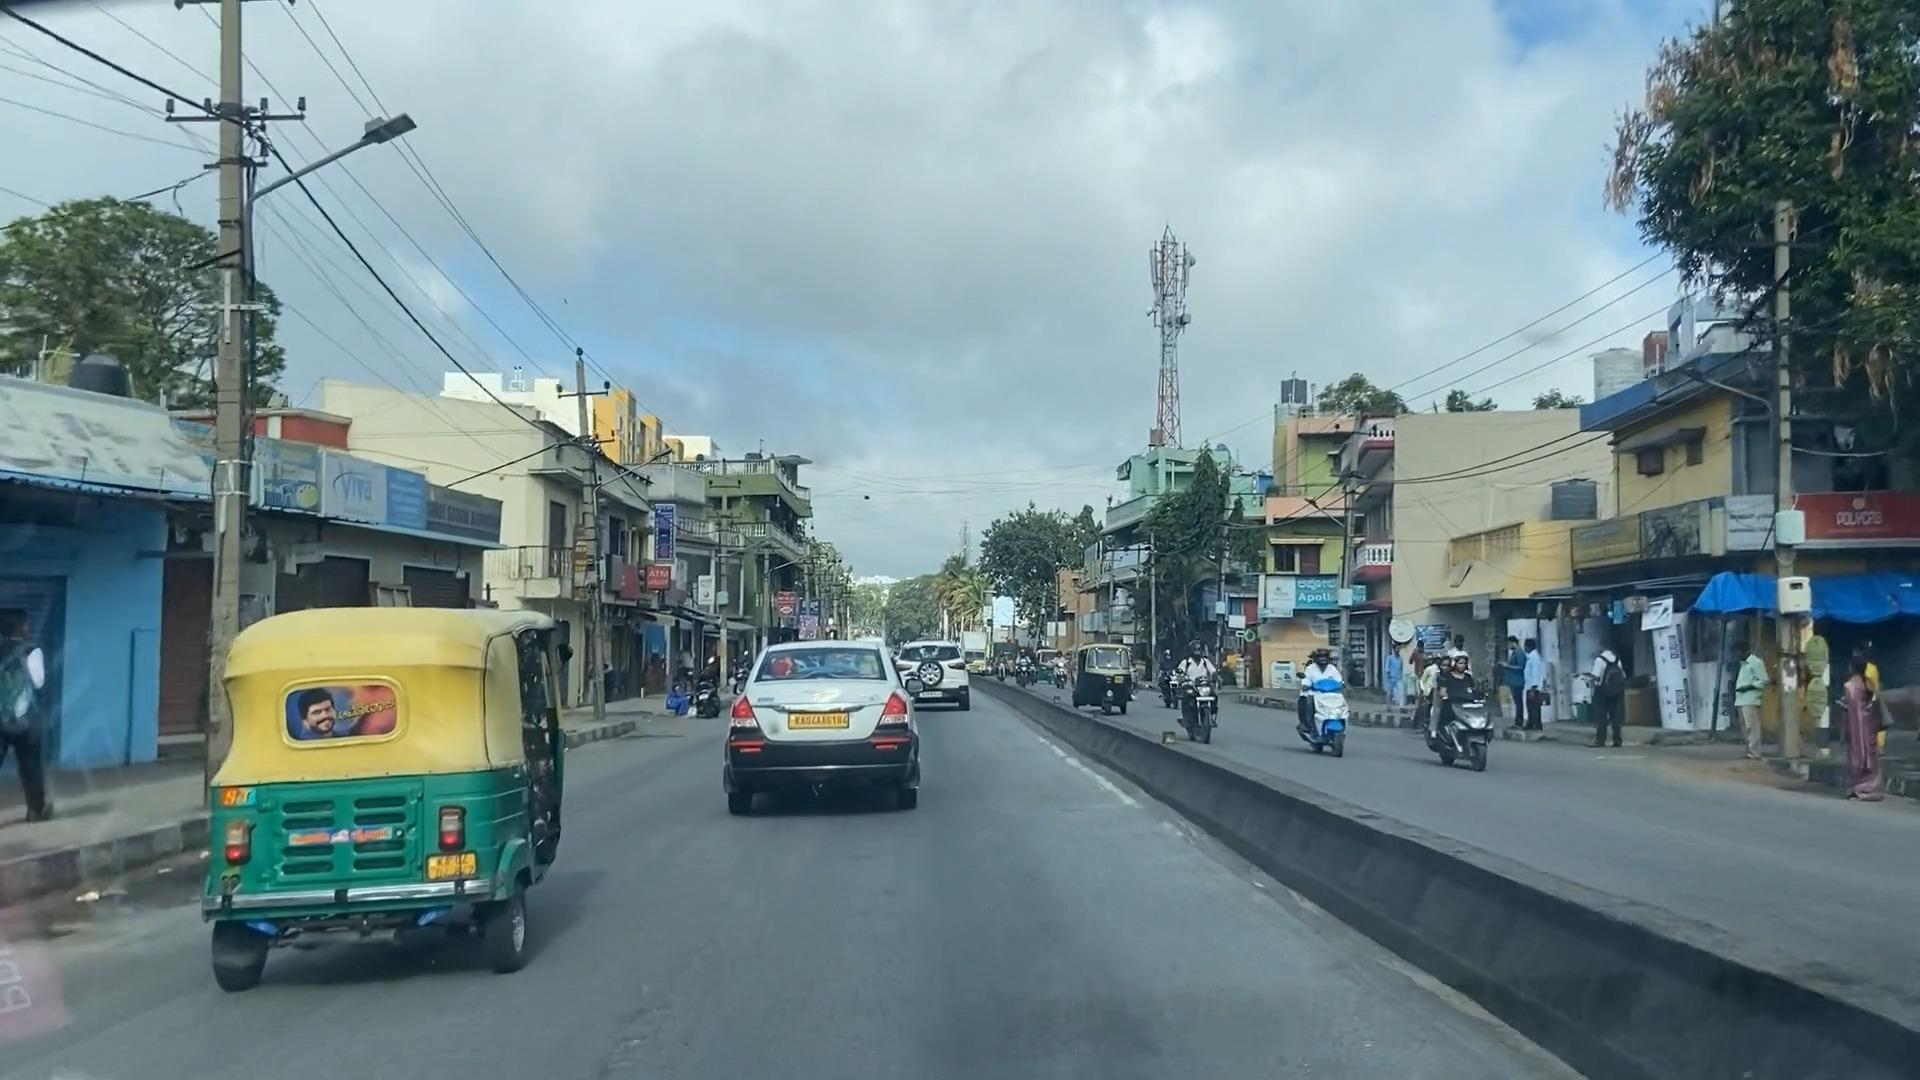LMV: (208, 608, 560, 1007), (721, 642, 923, 807)
